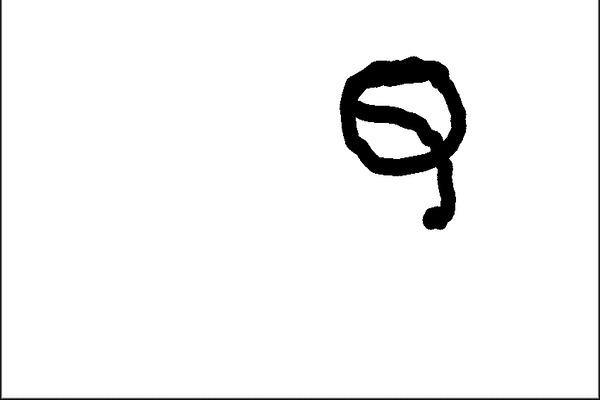Q: (328, 46, 467, 239)
